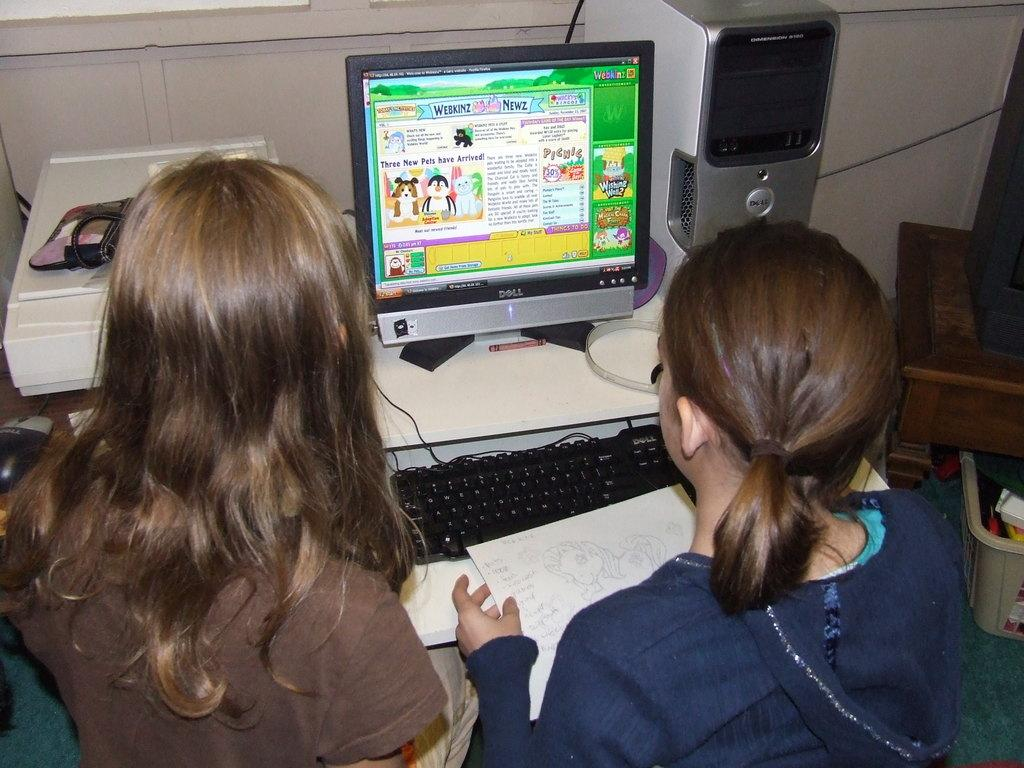Computer-monitor: (342, 38, 656, 367)
